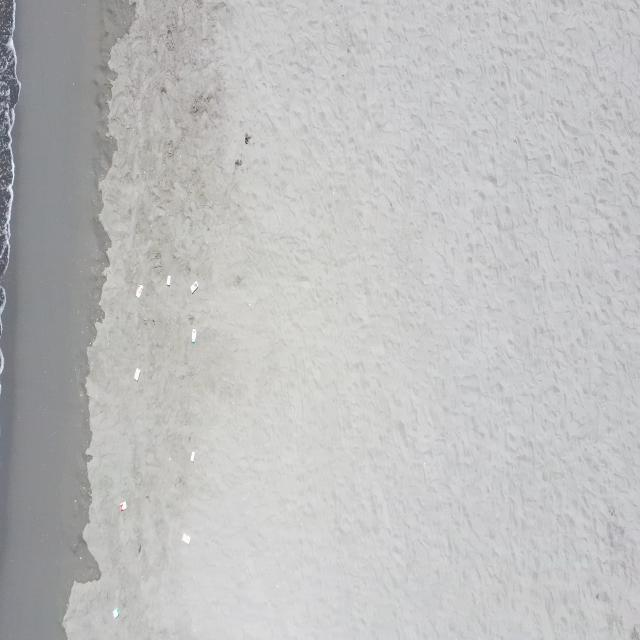Garbage: (180, 532, 190, 544), (135, 283, 143, 296), (191, 280, 198, 292), (191, 327, 196, 343), (111, 608, 119, 617), (134, 368, 140, 380), (119, 500, 125, 511), (191, 451, 195, 462), (166, 275, 169, 284)
